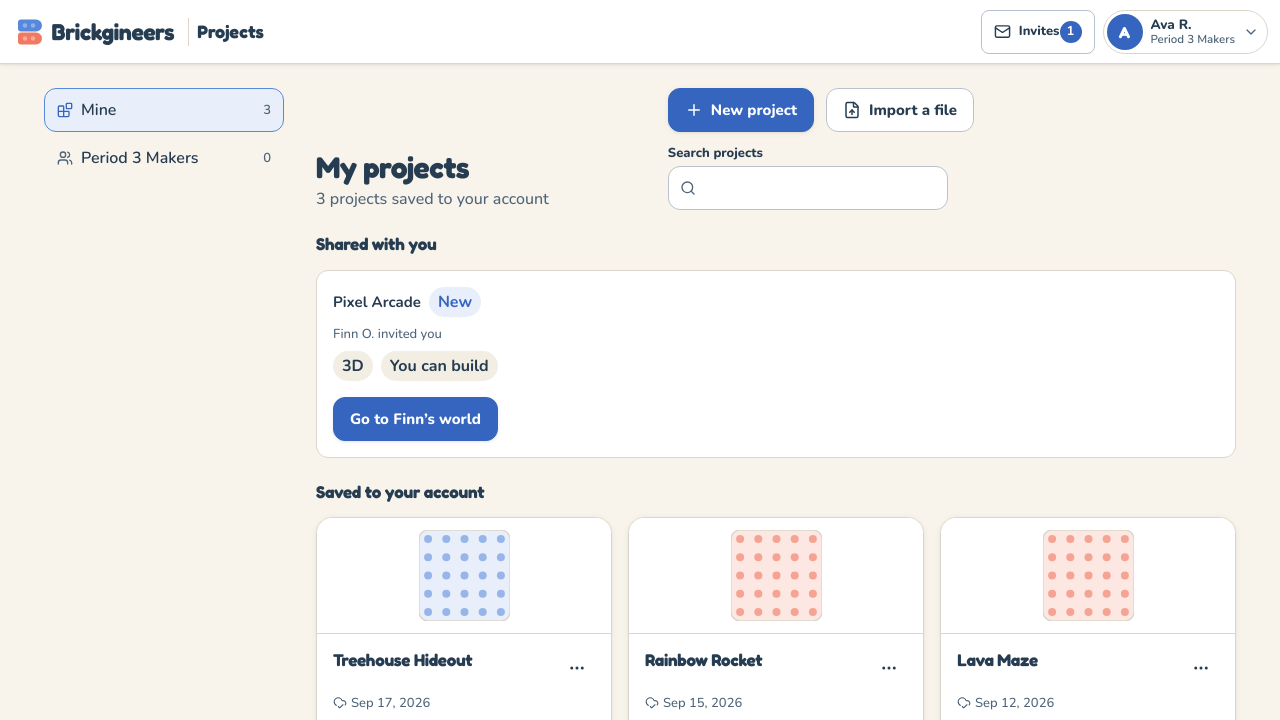
Scenario: student › falls back to "Your teacher" when the class carries no teacher name
Click the button "Period 3 Makers 0" at (164, 158), box top-left (44, 136), bottom-right (284, 180)
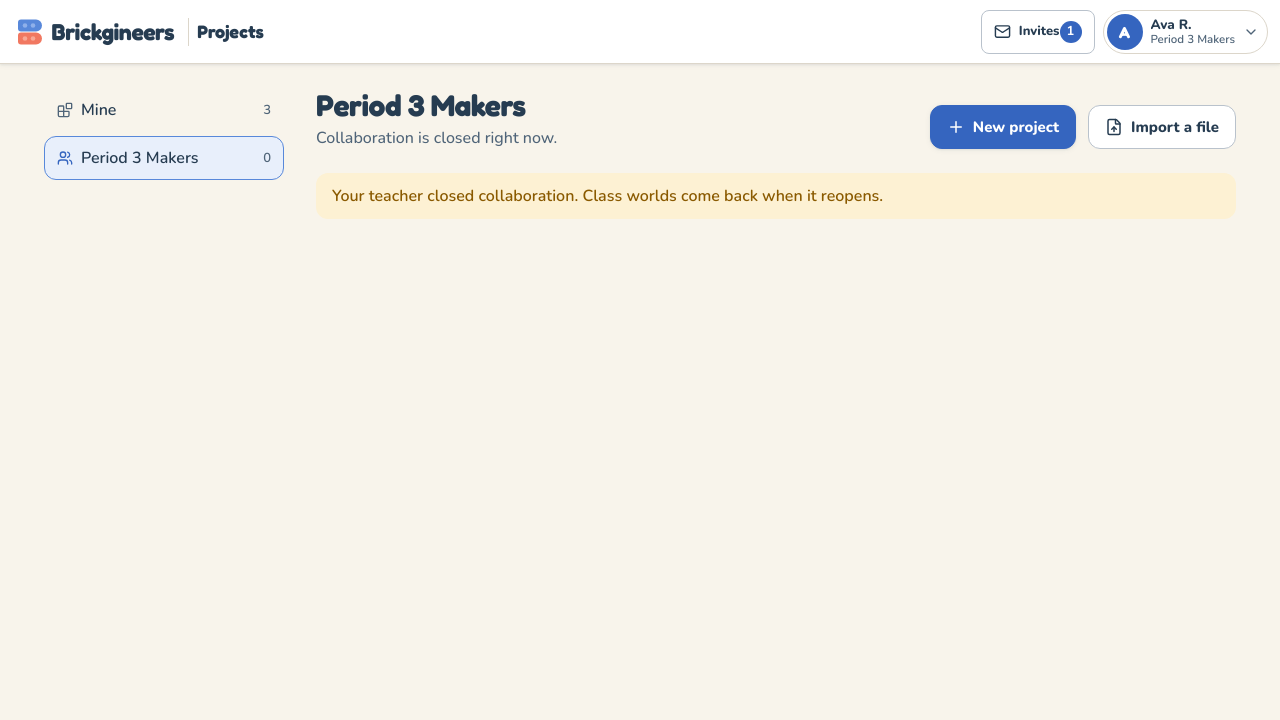
Expected: the text "Your teacher closed collaboration. Class worlds come back when it reopens." is shown, top-left (316, 172), bottom-right (1236, 218)
